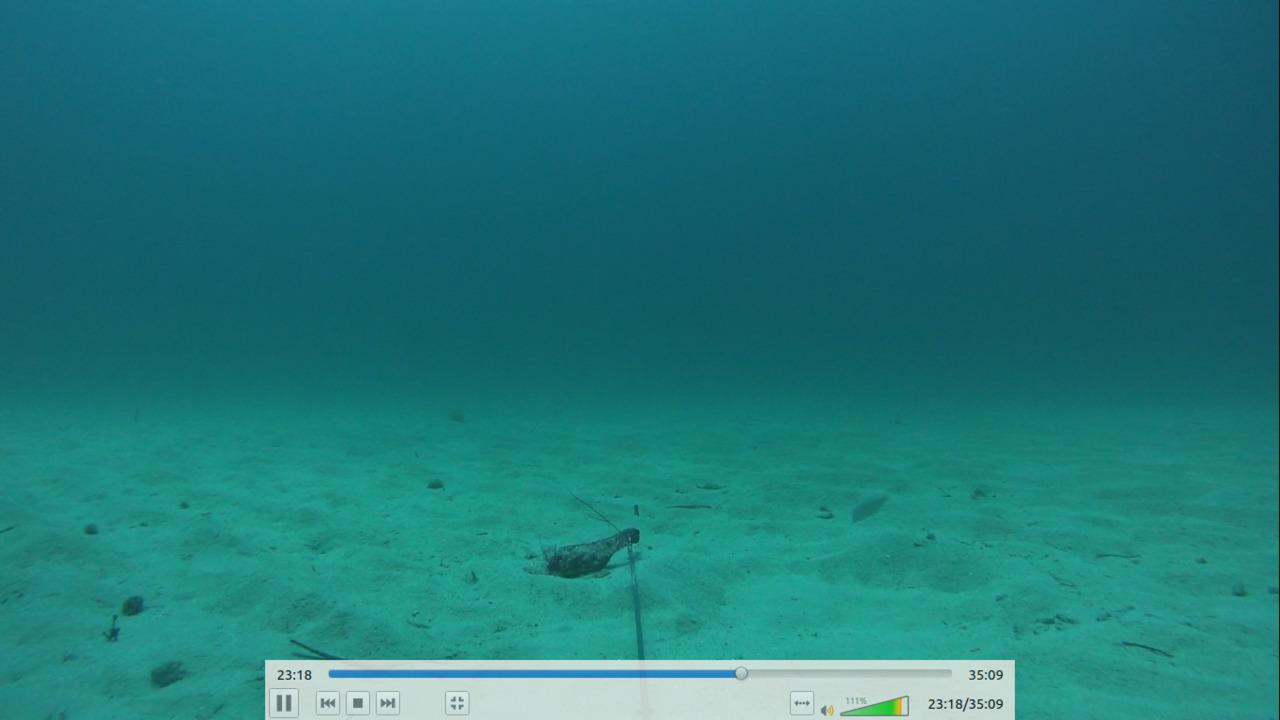raor: (843, 492, 890, 525)
